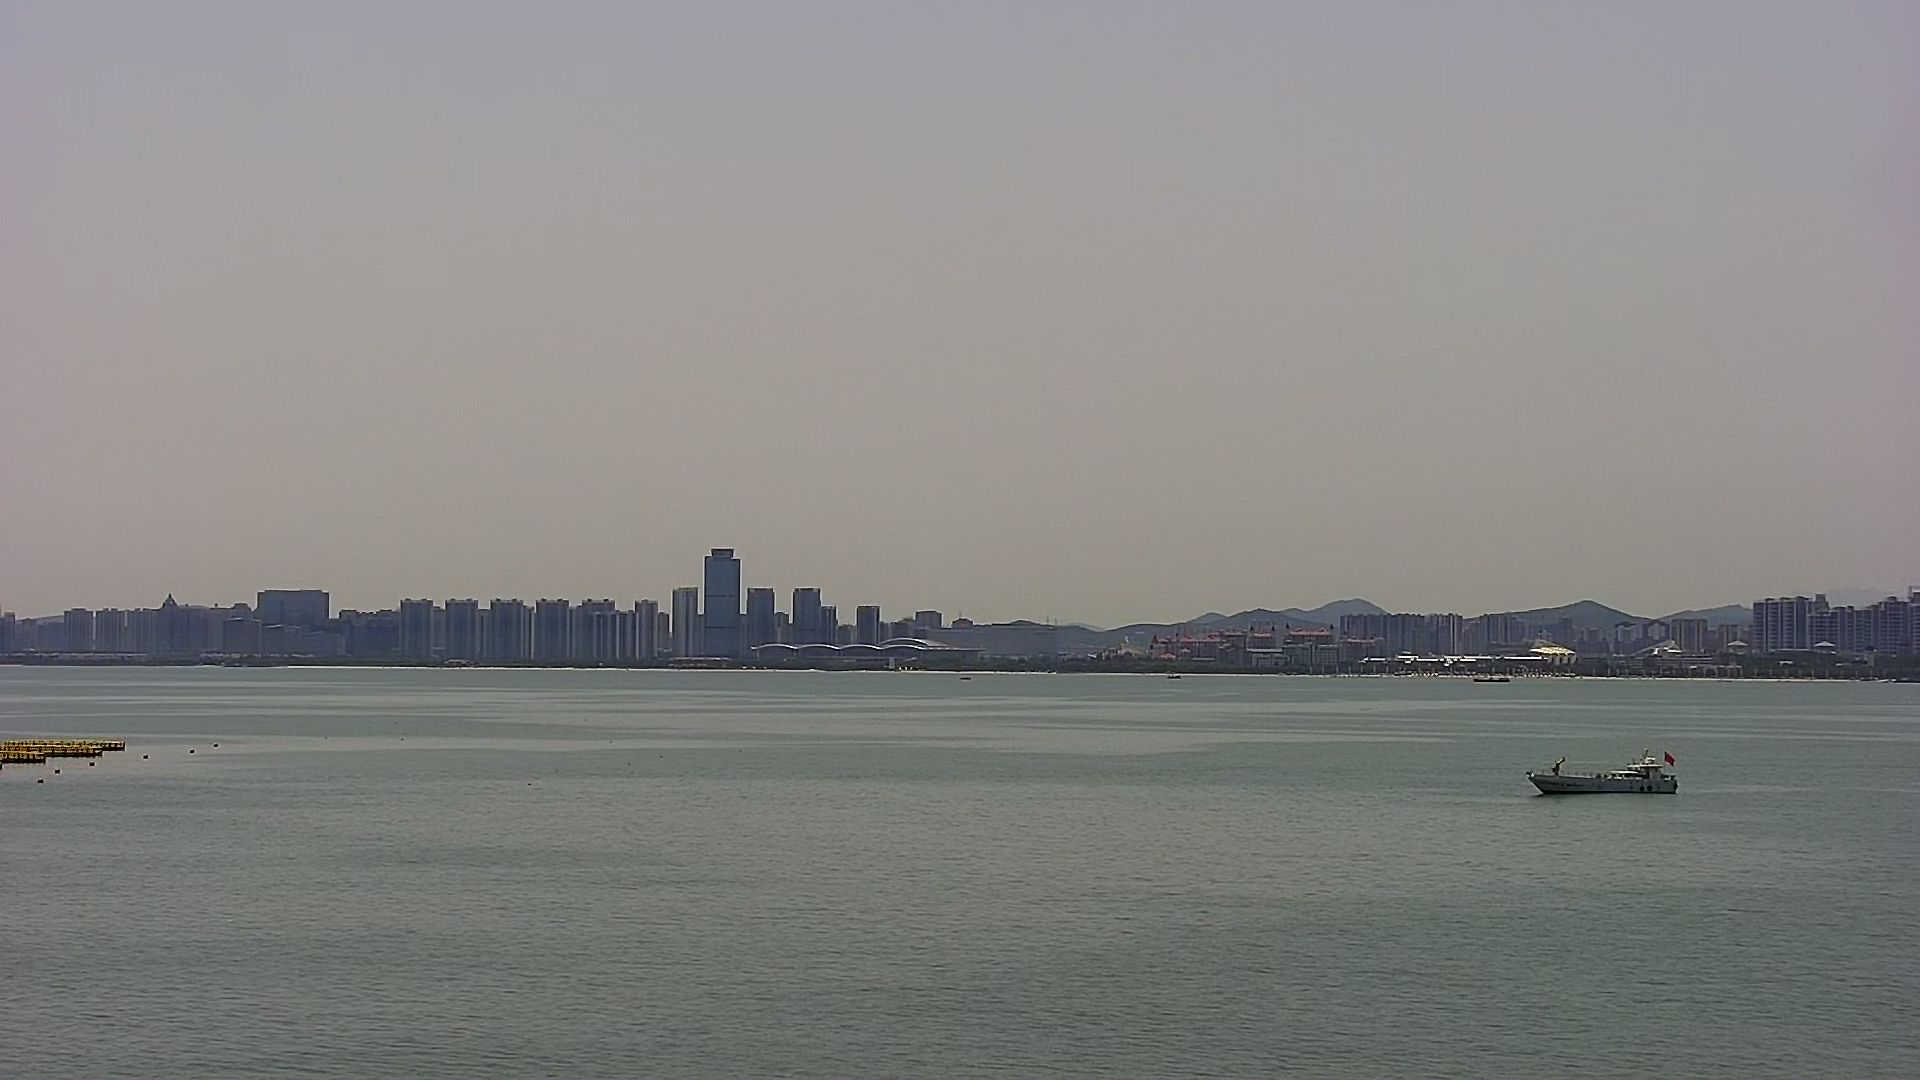platform: (1, 735, 148, 775)
ship: (1526, 741, 1684, 795)
